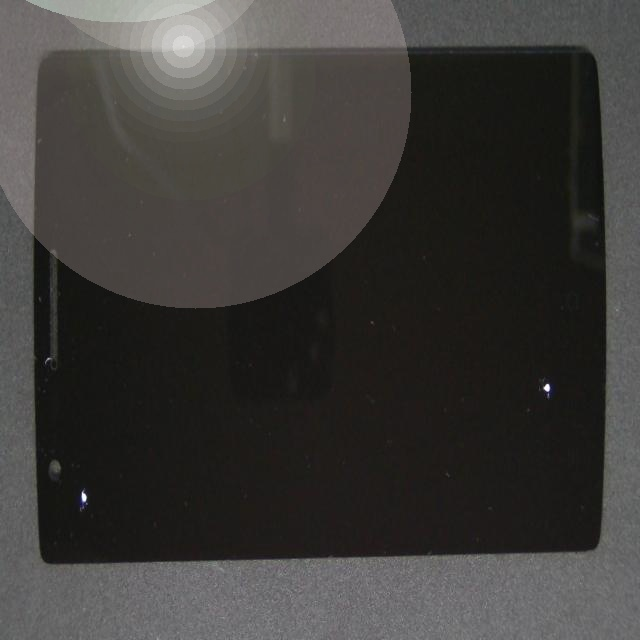stain: (289, 216, 640, 570), (47, 218, 115, 640)
